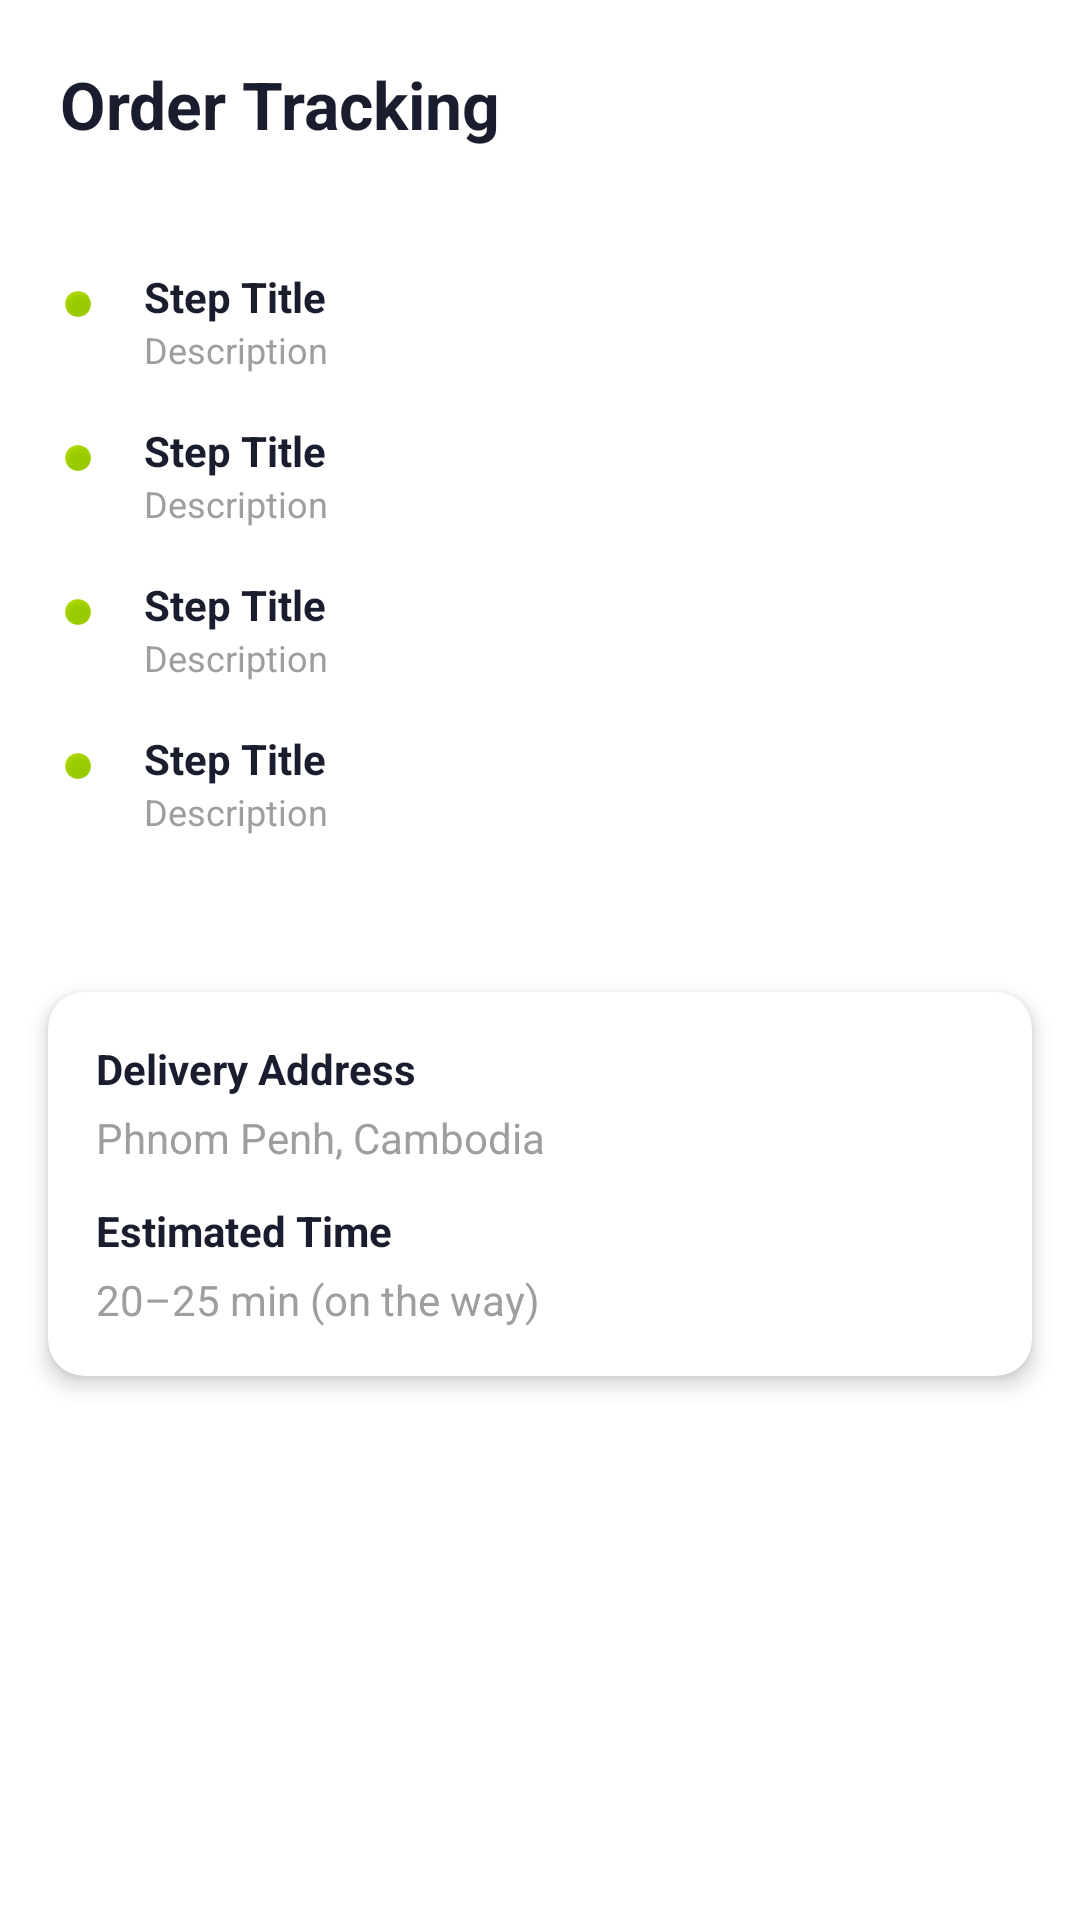

Screen size 1080px×1920px. Icon name, then its box in pixels as rect(x1, y1, x2, y2):
presence online: rect(65, 291, 91, 317), rect(65, 445, 91, 471), rect(65, 599, 91, 625), rect(65, 753, 91, 779)
